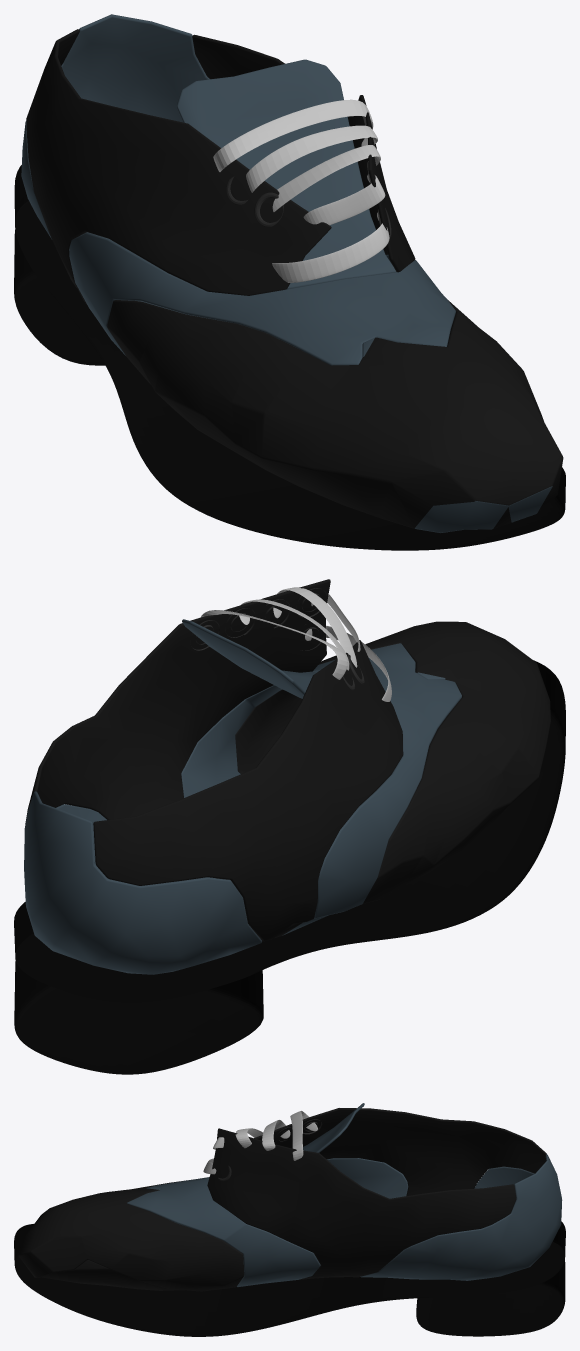
Rendered from za2ot1derecha.fbx.
3 views of the same model, one above another, from view 1: azimuth 30°, elevation 25°; view 2: azimuth 150°, elevation 25°; view 3: azimuth 270°, elevation 25° (orthographic). The views are drawn at different scales.
Visible parts, largest first — view 1: zapato2, Plane, Plane.004, Plane.005, Plane.003, Plane.001, Plane.002; view 2: zapato2, Plane, Plane.001, Plane.004; view 3: zapato2, Plane, Plane.004, Plane.003, Plane.001.
Boxes of the visible parts, x1,y1,x2,y2 form: zapato2: (21,14,563,532); Plane: (14,165,565,550); Plane.004: (213,99,373,171); Plane.005: (272,212,389,282); Plane.003: (246,125,377,192); Plane.001: (272,145,380,211); Plane.002: (303,174,385,225); zapato2: (24,579,550,974); Plane: (14,660,565,1074); Plane.001: (273,587,357,667); Plane.004: (200,610,347,679); zapato2: (18,1103,562,1291); Plane: (14,1221,565,1336); Plane.004: (290,1110,317,1160); Plane.003: (262,1119,290,1150); Plane.001: (235,1128,262,1148).
Size of the model in its own units: 169 by 176 by 447.
